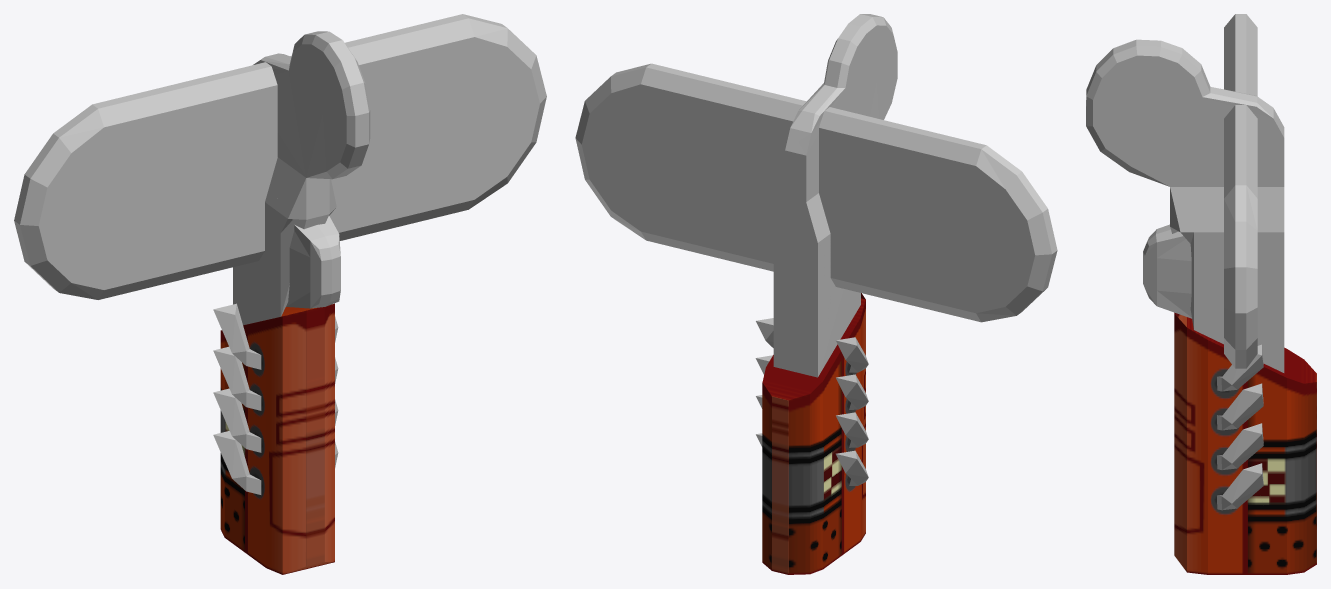
Rendered from avatarbits_wtf.obj.
3 views of the same model, side by side, from view 1: azimuth 30°, elevation 25°; view 2: azimuth 150°, elevation 25°; view 3: azimuth 270°, elevation 25° (orthographic). The views are drawn at different scales.
Parts seen in each view (by area): view 1: group5, group2, group3, group10, group7, group4, group6, group1; view 2: group5, group2, group10, group3, group7, group6, group1, group9; view 3: group2, group3, group5, group10, group9, group7, group4, group6, group1.
Part boxes in pixels (x1,y1,x2,y2): group5: (14, 14, 546, 299); group2: (220, 303, 334, 574); group3: (289, 31, 370, 179); group10: (233, 157, 329, 325); group7: (213, 303, 338, 494); group4: (286, 216, 340, 308); group6: (253, 53, 306, 177); group1: (233, 208, 335, 316); group5: (575, 63, 1057, 322); group2: (762, 293, 865, 574); group10: (773, 193, 860, 377); group3: (824, 14, 897, 119); group7: (755, 318, 868, 485); group6: (790, 83, 850, 201); group1: (785, 128, 843, 376); group9: (785, 130, 811, 201); group2: (1174, 312, 1316, 574); group3: (1086, 39, 1210, 186); group5: (1224, 14, 1257, 368); group10: (1170, 187, 1284, 372); group9: (1170, 97, 1284, 231); group7: (1217, 344, 1263, 510); group4: (1143, 224, 1191, 318); group6: (1203, 87, 1273, 118); group1: (1170, 109, 1284, 329).
Size of the model in its own units: 621 by 615 by 249.
